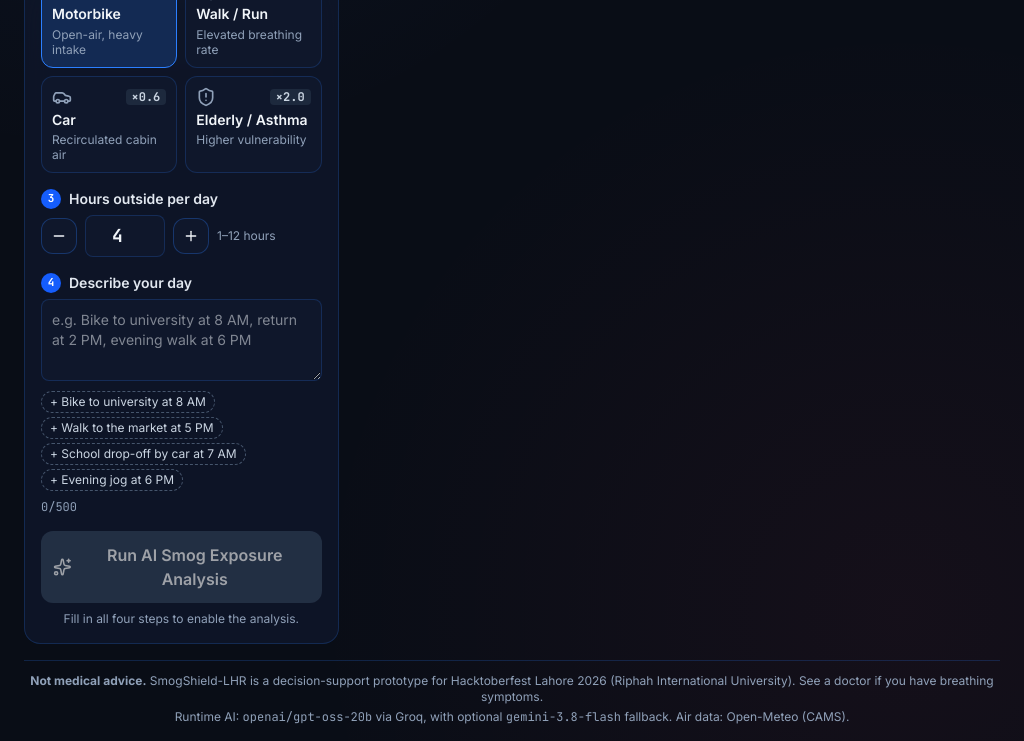
Scenario: form interaction › example chips append to the routine
(page scrolled)
Step 1. Click the button "+ Evening jog at 6 PM" → [112, 480], box [41,469,183,491]
(page scrolled)
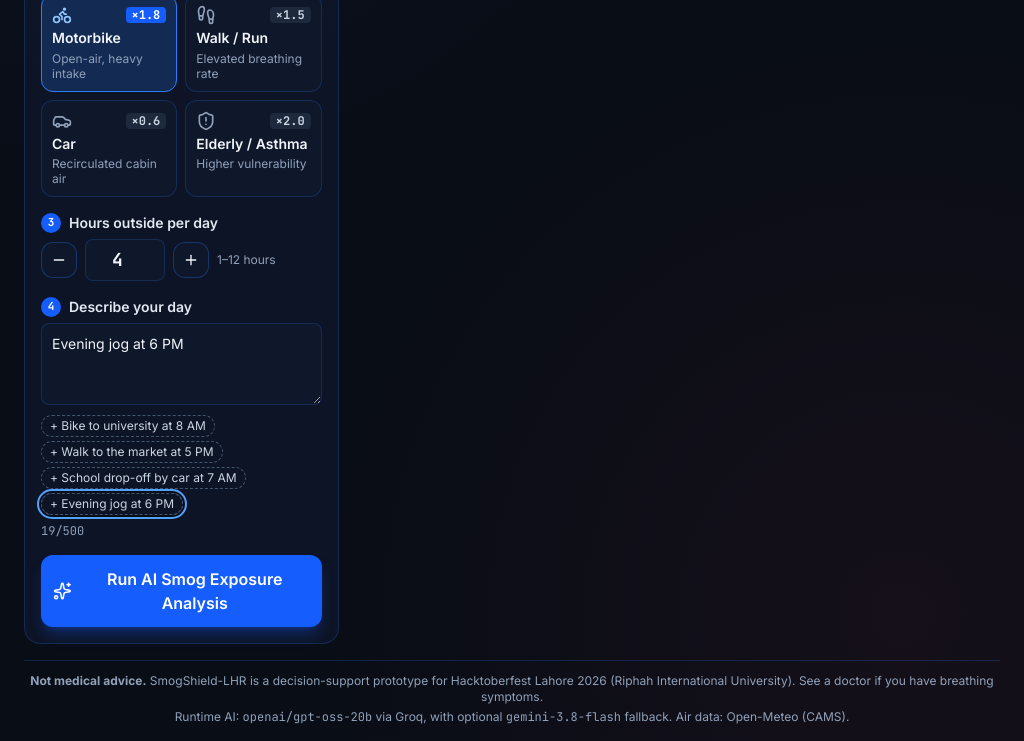
Expected: the text box labelled "4 Describe your day" holds "Evening jog at 6 PM", [41,323,322,405]
